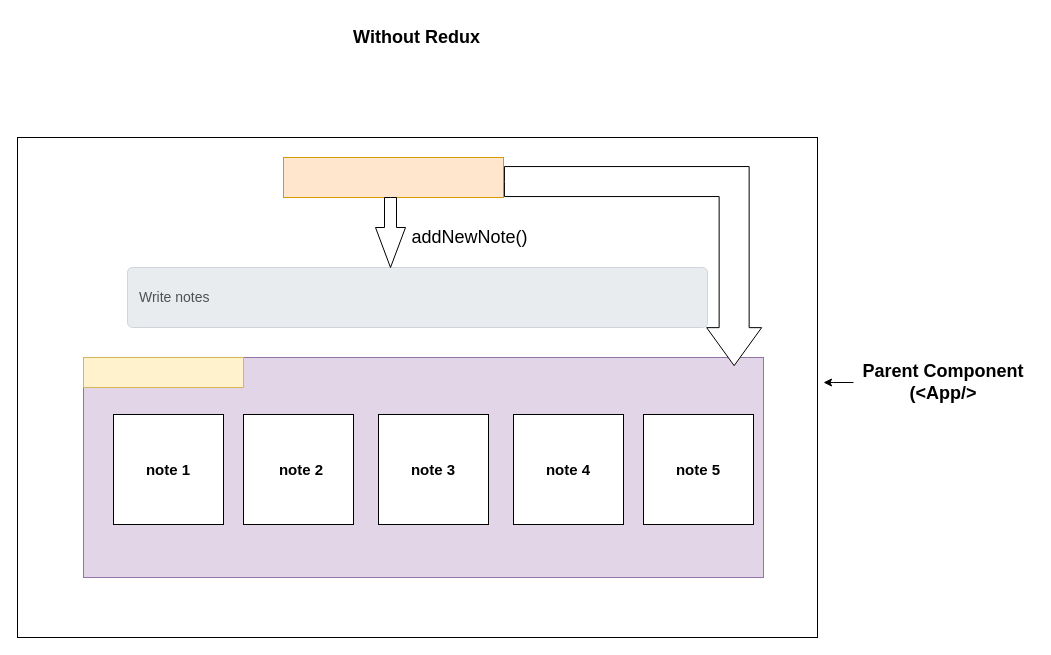
Image size: 1051x655. Some labels were removed from this diagram. The shapes that lost their labels are listed below. From the top down, each one's centre as x and y in pixels, then its label:
At [393,177]: "state".
At [632,266]: "allNotes = [ ]".
At [163,372]: "All Notes".
